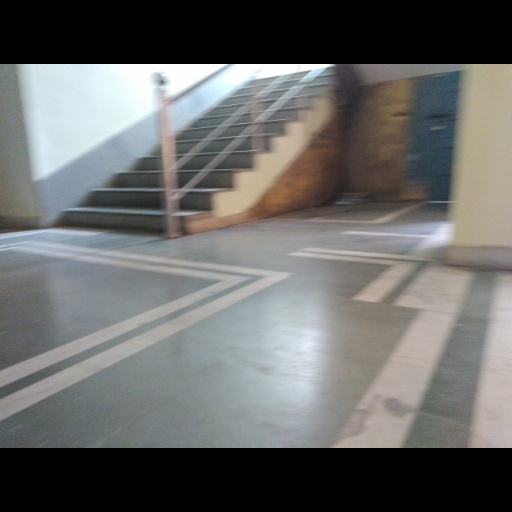Stairs: (178, 68, 334, 233), (62, 151, 165, 231)
